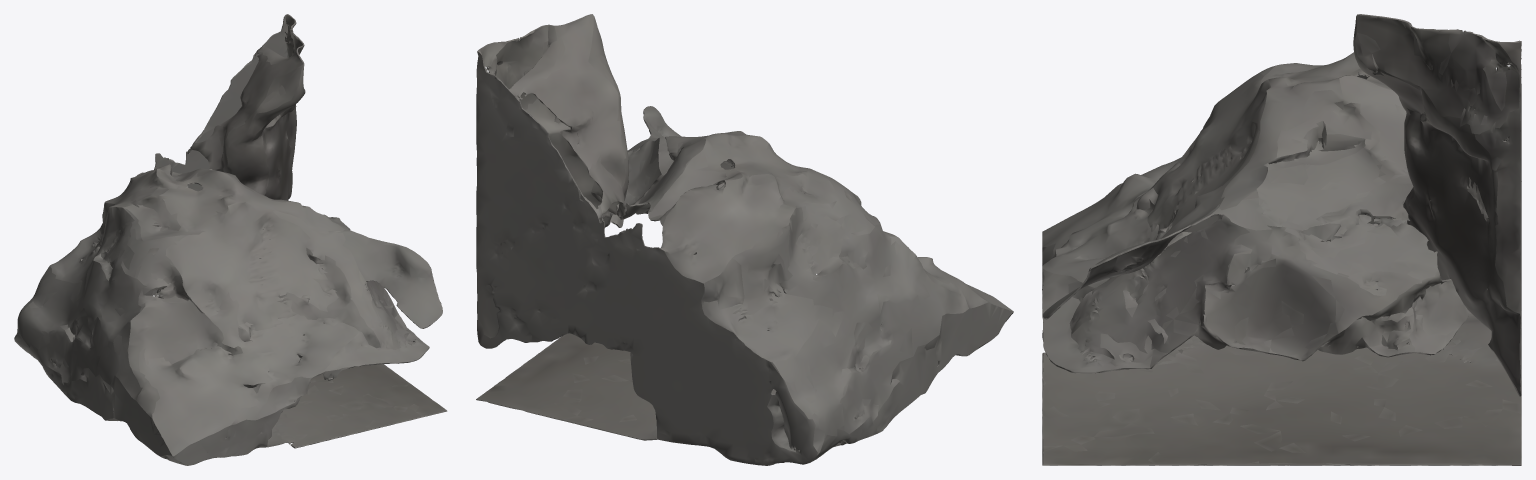
The picture shows the model from 3 angles, left to right: view 1: azimuth 30°, elevation 25°; view 2: azimuth 150°, elevation 25°; view 3: azimuth 270°, elevation 25°; orthographic projection. The views are drawn at different scales.
Visible parts, largest first — view 1: world; view 2: world; view 3: world.
Part boxes in pixels (<box>): world: <box>14,14,447,465</box>; world: <box>476,14,1013,465</box>; world: <box>1042,14,1521,465</box>.
Size of the model in its own units: 0.35 by 0.343 by 0.3497.
Materials: 1 (1 with a texture image).
